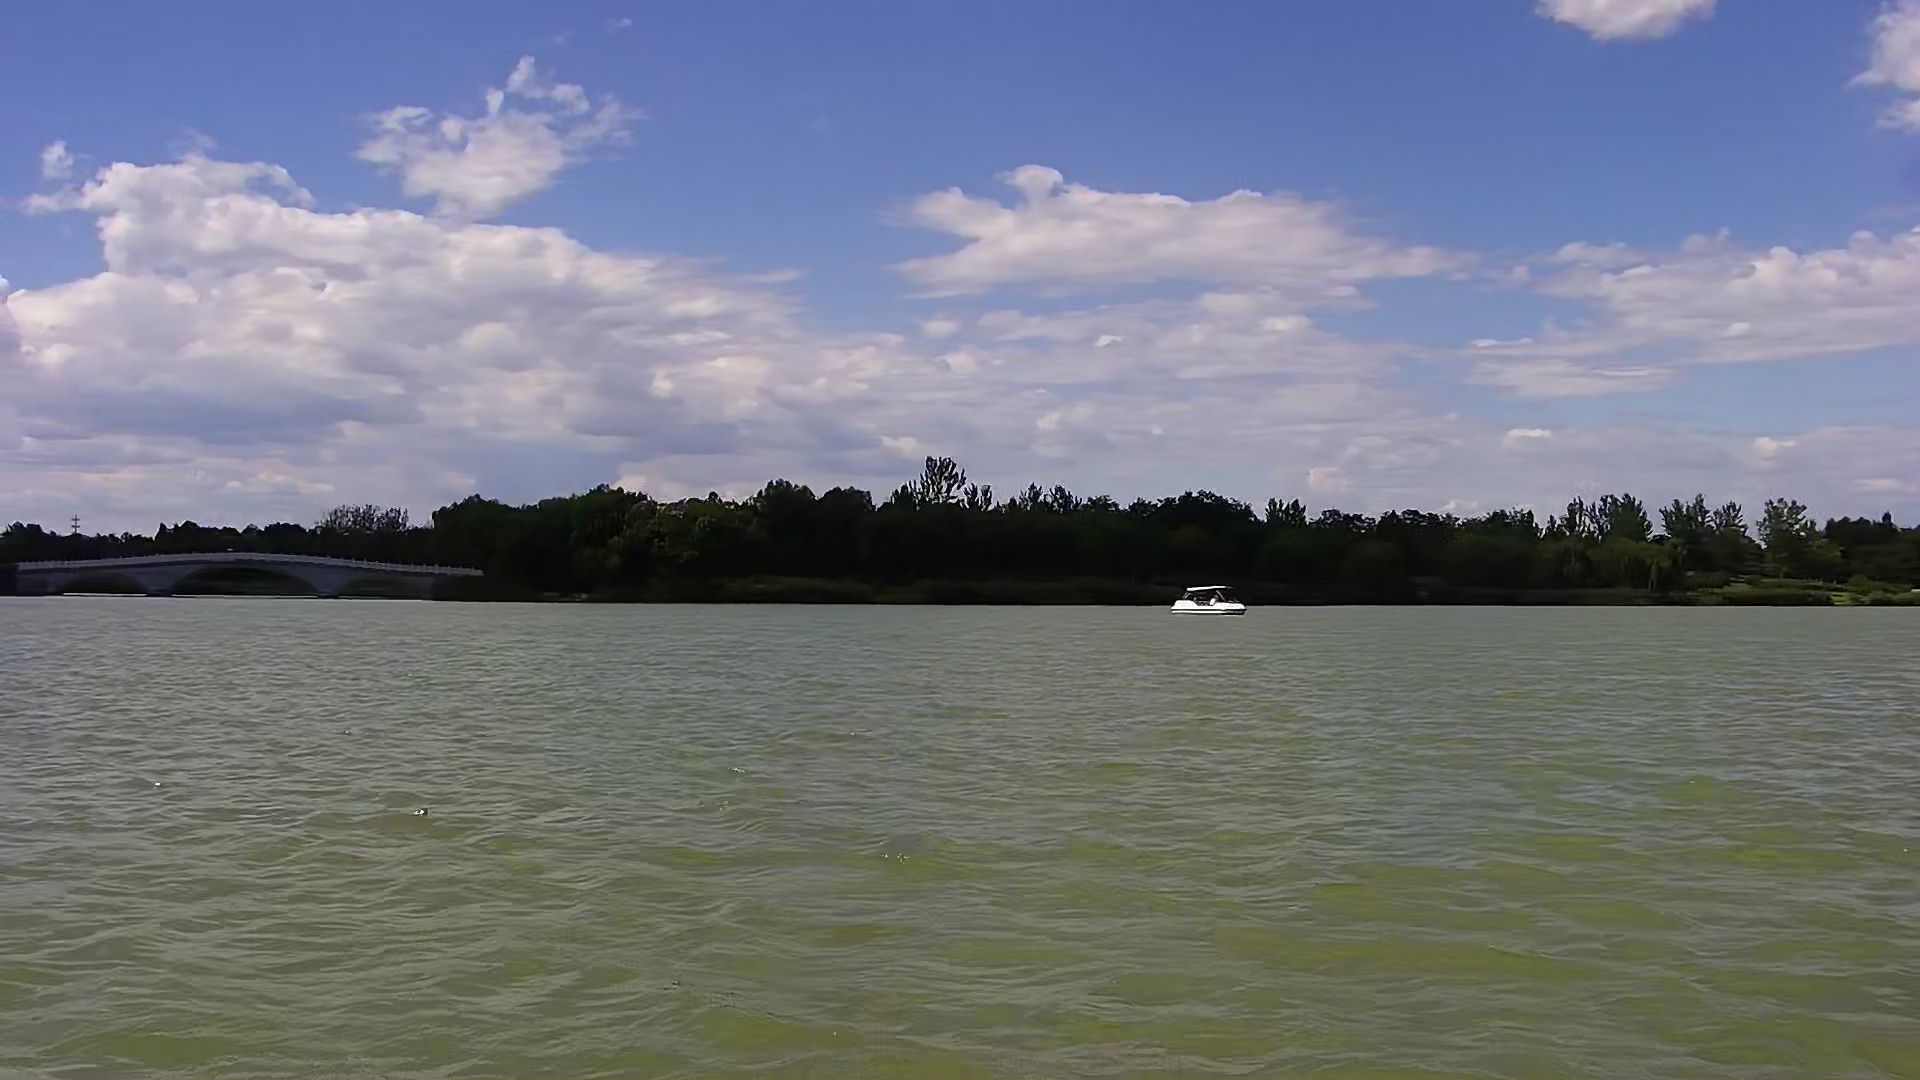boat: (1168, 582, 1247, 621)
bridge: (4, 551, 492, 607)
